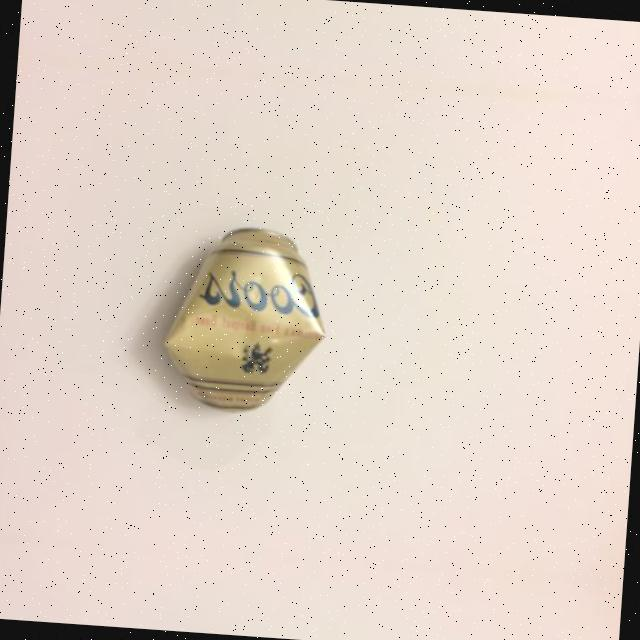Metal: (139, 190, 365, 448)
